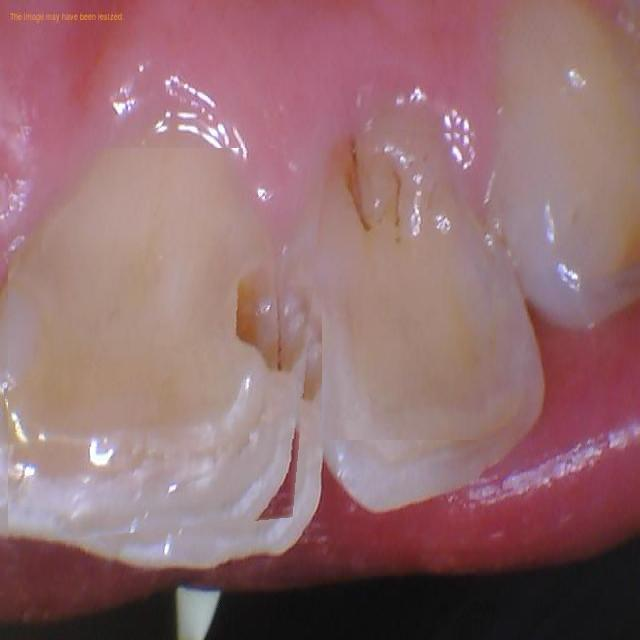Cavity: (8, 148, 328, 548), (322, 121, 502, 440)
